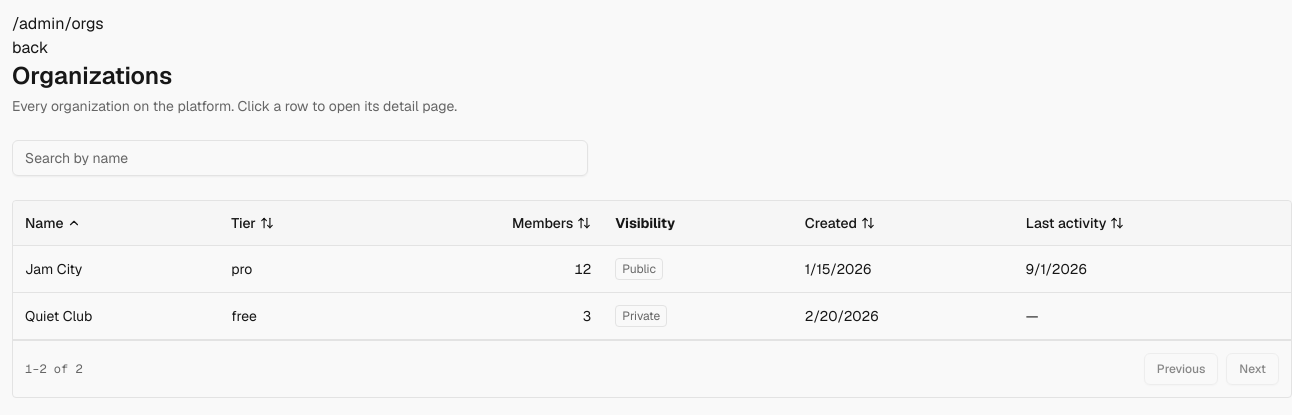
Test: Organizations › flips dir when the sorted column header is clicked again
Expected: the text "Jam City" is shown, [13,246,219,292]
Click the button "Tier". click: [253, 223]
box: [231,213,274,233]
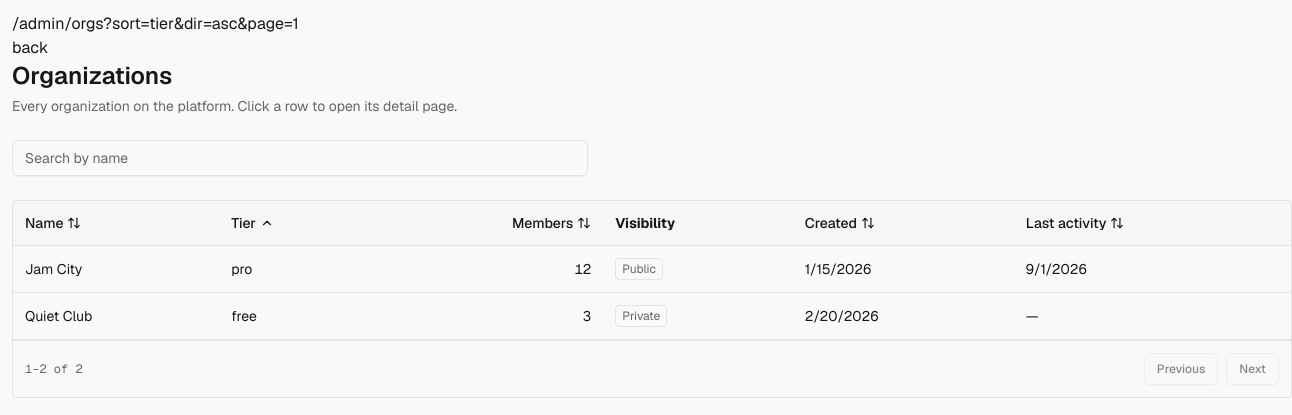
Expected: the text with test id "location" shows "sort=tier&dir=asc", [12,13,299,34]
Click the button "Tier". click: [253, 223]
box: [231,213,274,233]
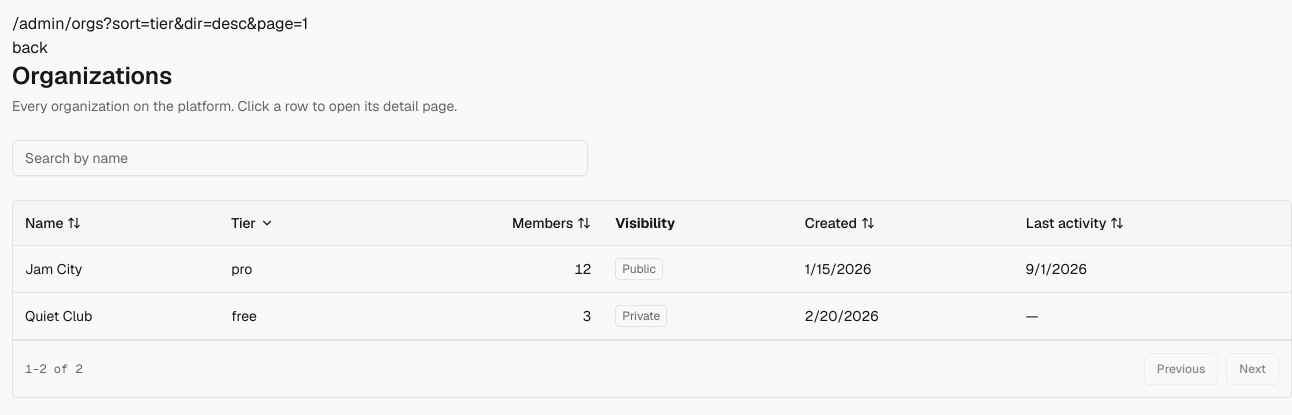
Expected: the text with test id "location" shows "sort=tier&dir=desc", [12,13,308,34]
